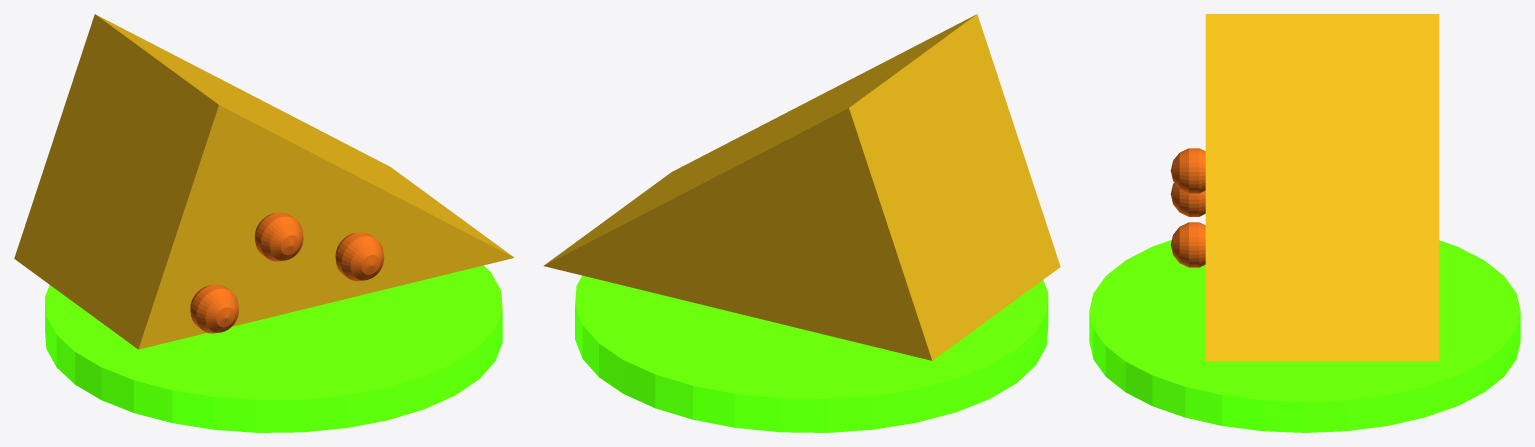
File: food_cheese_wedge.dae
3 views of the same model, side by side, from view 1: azimuth 30°, elevation 25°; view 2: azimuth 150°, elevation 25°; view 3: azimuth 270°, elevation 25° (orthographic). The views are drawn at different scales.
Parts seen in each view (by area): view 1: 01_17_Popular_Food_Cheese_Wedge_part_01, 01_17_Popular_Food_Cheese_Wedge_ROOT_base, 01_17_Popular_Food_Cheese_Wedge_part_02, 01_17_Popular_Food_Cheese_Wedge_part_03, 01_17_Popular_Food_Cheese_Wedge_part_04; view 2: 01_17_Popular_Food_Cheese_Wedge_part_01, 01_17_Popular_Food_Cheese_Wedge_ROOT_base; view 3: 01_17_Popular_Food_Cheese_Wedge_part_01, 01_17_Popular_Food_Cheese_Wedge_ROOT_base, 01_17_Popular_Food_Cheese_Wedge_part_02, 01_17_Popular_Food_Cheese_Wedge_part_04, 01_17_Popular_Food_Cheese_Wedge_part_03.
Boxes of the visible parts, left/top/right/bottom form: 01_17_Popular_Food_Cheese_Wedge_part_01: left=14, top=14, right=514, bottom=349; 01_17_Popular_Food_Cheese_Wedge_ROOT_base: left=45, top=265, right=502, bottom=432; 01_17_Popular_Food_Cheese_Wedge_part_02: left=254, top=212, right=303, bottom=261; 01_17_Popular_Food_Cheese_Wedge_part_03: left=190, top=284, right=238, bottom=333; 01_17_Popular_Food_Cheese_Wedge_part_04: left=335, top=232, right=384, bottom=281; 01_17_Popular_Food_Cheese_Wedge_part_01: left=544, top=14, right=1060, bottom=360; 01_17_Popular_Food_Cheese_Wedge_ROOT_base: left=575, top=275, right=1048, bottom=432; 01_17_Popular_Food_Cheese_Wedge_part_01: left=1205, top=14, right=1439, bottom=361; 01_17_Popular_Food_Cheese_Wedge_ROOT_base: left=1089, top=240, right=1520, bottom=432; 01_17_Popular_Food_Cheese_Wedge_part_02: left=1170, top=148, right=1205, bottom=193; 01_17_Popular_Food_Cheese_Wedge_part_04: left=1171, top=222, right=1205, bottom=267; 01_17_Popular_Food_Cheese_Wedge_part_03: left=1170, top=183, right=1205, bottom=216.
Size of the model in its own units: 0.76 by 0.5414 by 0.76.
